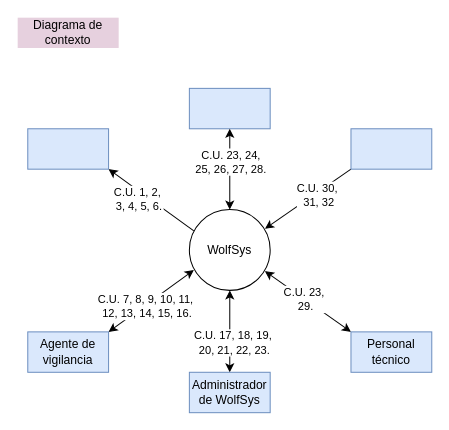
The diagram is 449 pixels wide and 430 high, and some of its shapes have lost their labels. Here are the shapes that lost their labels. From the top down, the centre of each, then its label:
(x=229, y=108): Administrador del edificio
(x=68, y=148): Residente/ Usuario final
(x=391, y=148): Tumimeras
